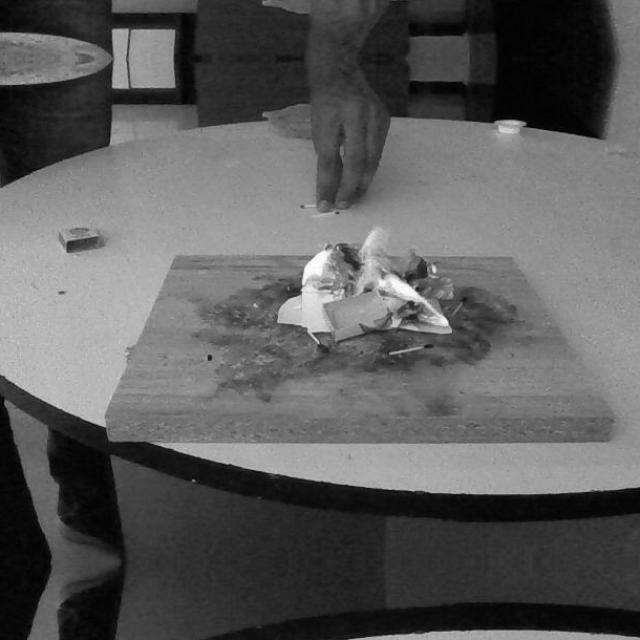smoke: (354, 224, 448, 326), (296, 244, 338, 294)
